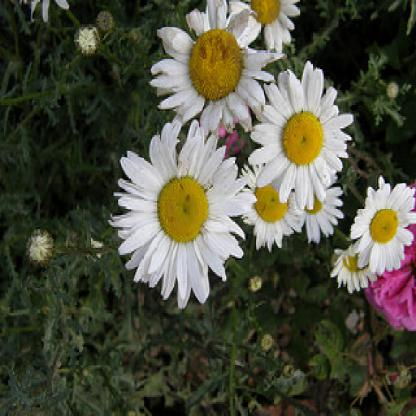ASTER: (87, 5, 416, 370)
